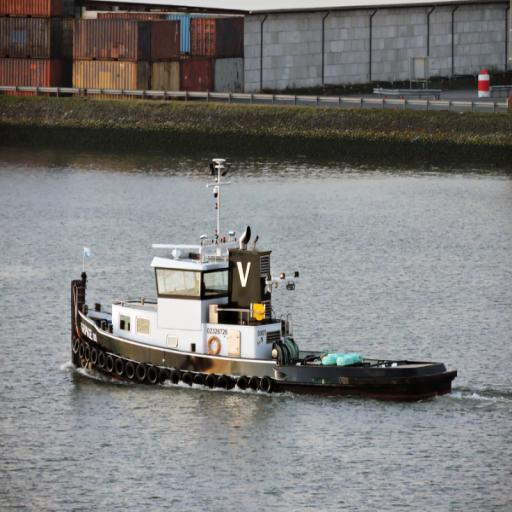tugboat: (69, 156, 460, 407)
